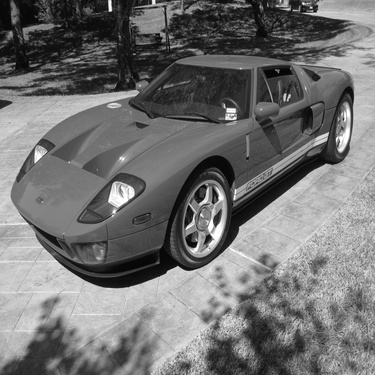car: (12, 51, 359, 284), (50, 14, 137, 37), (276, 1, 323, 15)
